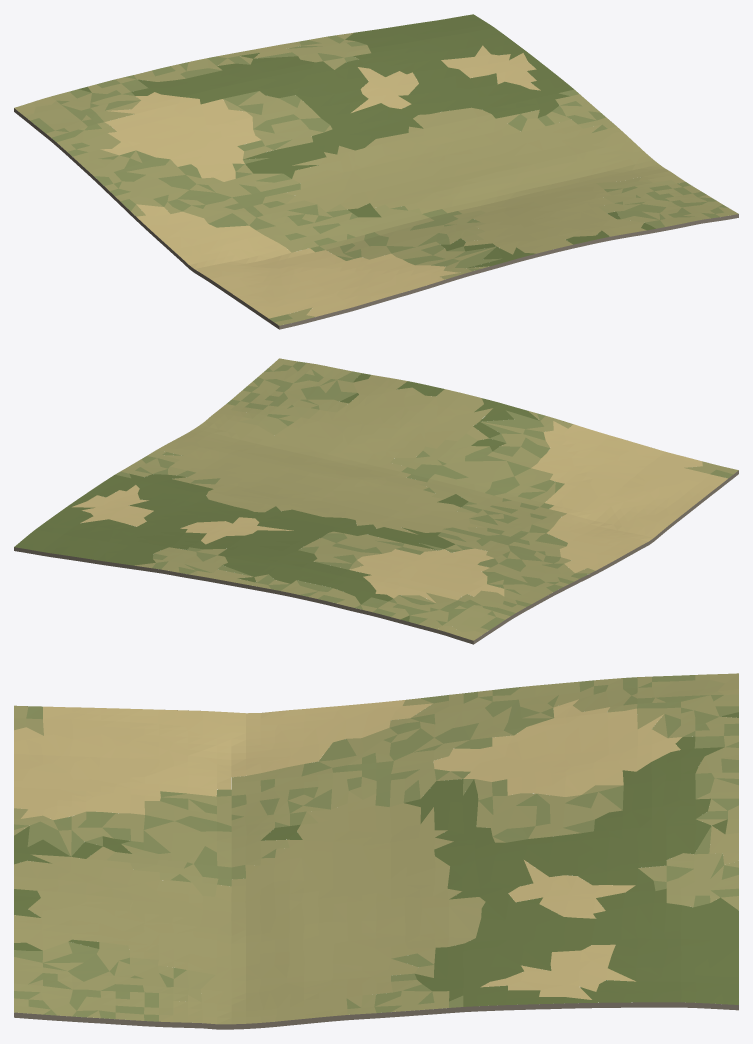
File: parca_-1_-4-uzak.glb
The picture shows the model from 3 angles, top to bottom: view 1: azimuth 30°, elevation 25°; view 2: azimuth 150°, elevation 25°; view 3: azimuth 270°, elevation 25°; orthographic projection. The views are drawn at different scales.
Visible parts, largest first — view 1: parca_-1_-4_arazi_uzak; view 2: parca_-1_-4_arazi_uzak; view 3: parca_-1_-4_arazi_uzak.
Part boxes in pixels (x1=…): parca_-1_-4_arazi_uzak: x1=14, y1=14, x2=738, y2=329; parca_-1_-4_arazi_uzak: x1=14, y1=358, x2=738, y2=644; parca_-1_-4_arazi_uzak: x1=14, y1=673, x2=738, y2=1029.
Size of the model in its own units: 1000 by 83.81 by 1000.
